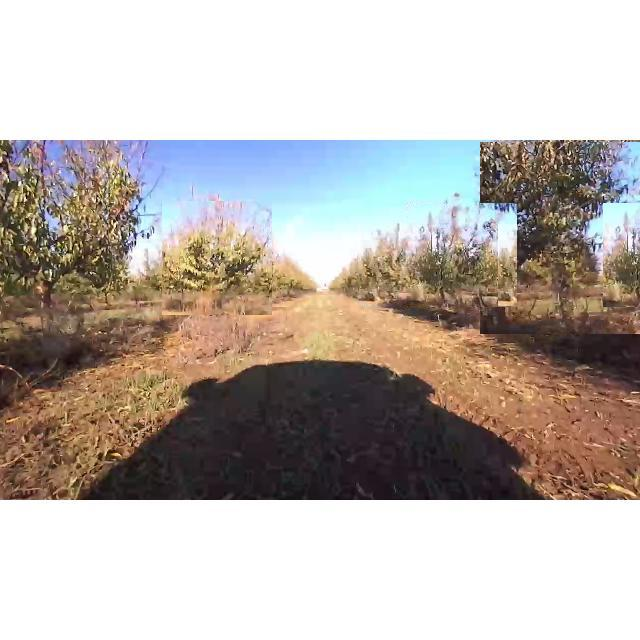direk: (0, 140, 160, 352), (480, 142, 640, 334), (162, 201, 272, 315), (407, 203, 517, 307), (362, 224, 426, 306)
